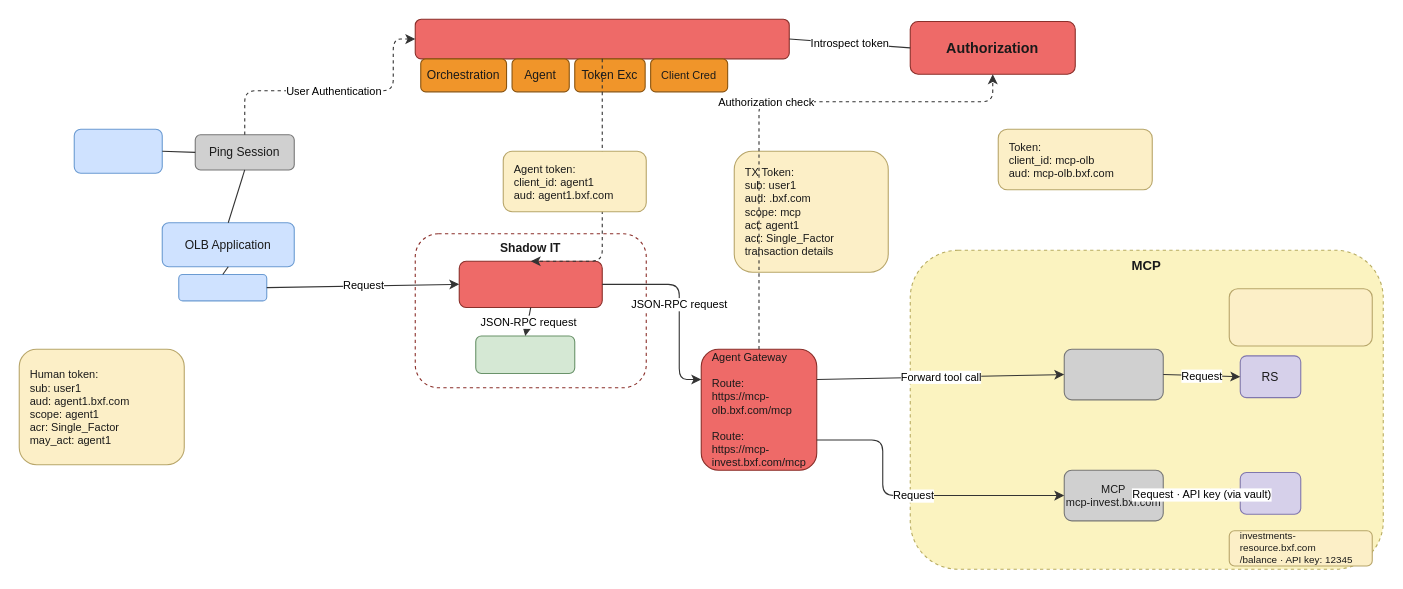
Some shapes in this 1403 by 589 pixel diagram are drawn without their labels. The shapes that lost their labels are listed below. From the top down, each one's centre as x and y in pixels, then its label:
At point (601, 38): "Agentic Token Service".
At point (117, 150): "User".
At point (222, 287): "chatbot".
At point (530, 283): "agent1".
At point (1300, 317): "aud: olb-resource.bxf.com /balance · /transfer scope: balance, transfer".
At point (525, 354): "LLM".
At point (1113, 374): "MCP mcp-olb.bxf.com".
At point (1270, 492): "API".
